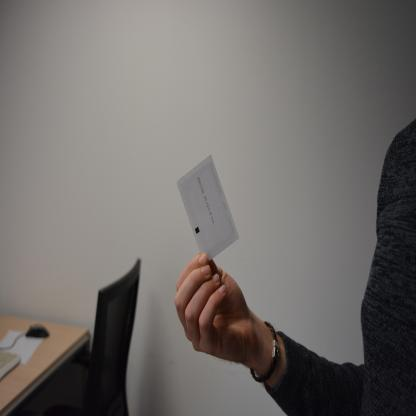tarjeta: (176, 153, 240, 263)
